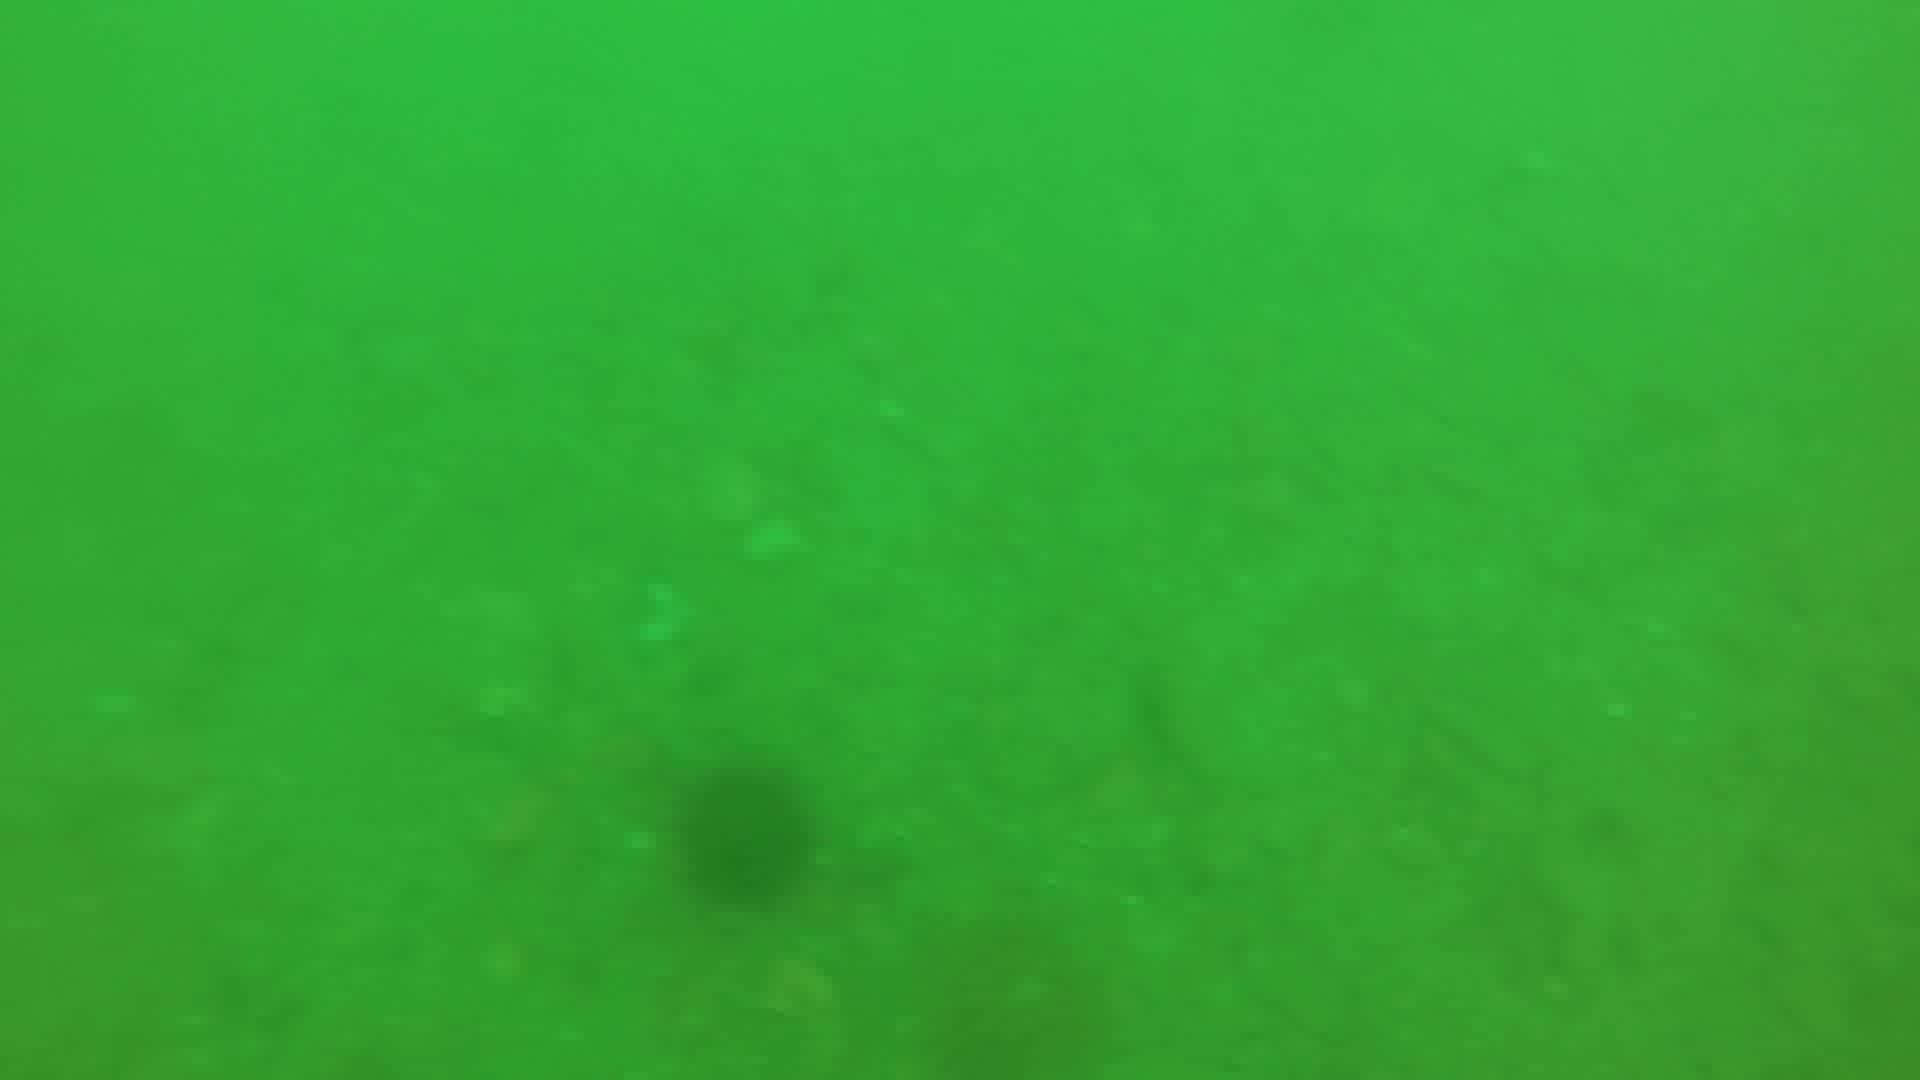echinus: (906, 909, 1118, 1077), (667, 761, 818, 910)
